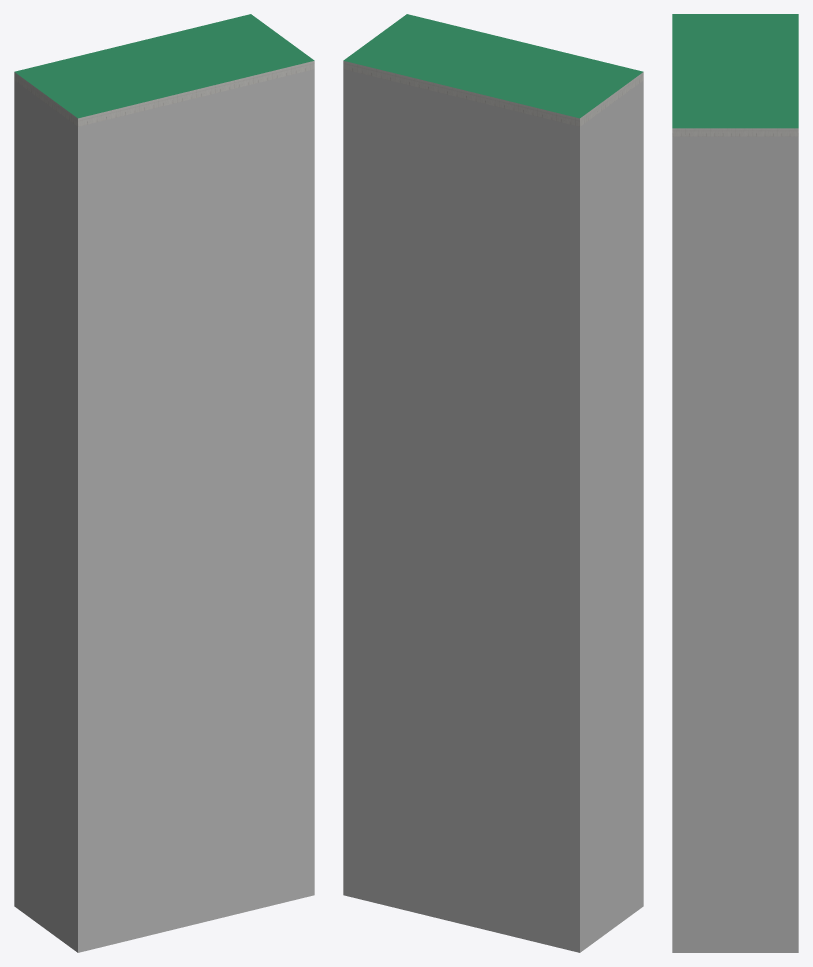
File: mcp_distant_building_01.FBX
The picture shows the model from 3 angles, left to right: view 1: azimuth 30°, elevation 25°; view 2: azimuth 150°, elevation 25°; view 3: azimuth 270°, elevation 25°; orthographic projection.
Parts seen in each view (by area): view 1: mcp_distant_building_01; view 2: mcp_distant_building_01; view 3: mcp_distant_building_01.
Boxes of the visible parts, bbox=[...] form: mcp_distant_building_01: bbox=[14, 14, 314, 952]; mcp_distant_building_01: bbox=[343, 14, 643, 952]; mcp_distant_building_01: bbox=[672, 14, 798, 952].
Size of the model in its own units: 7500 by 25259 by 3500.
